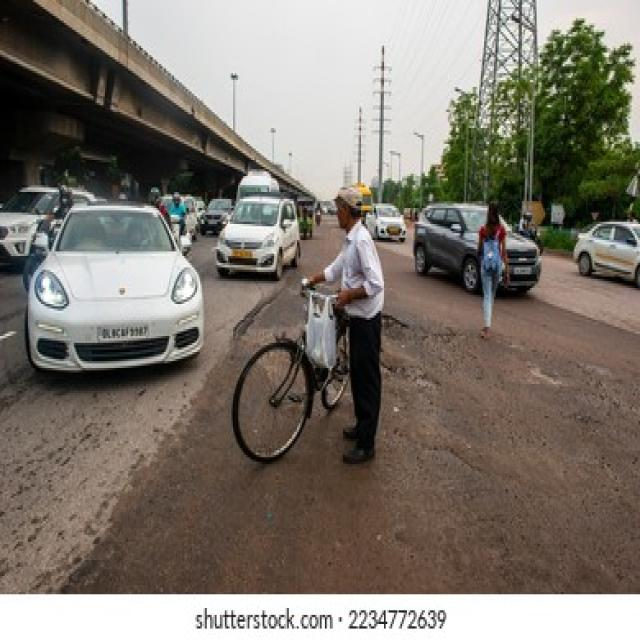bicycle: (233, 280, 349, 461)
car: (25, 209, 204, 372), (215, 195, 300, 279), (414, 204, 487, 292), (574, 221, 640, 286)
